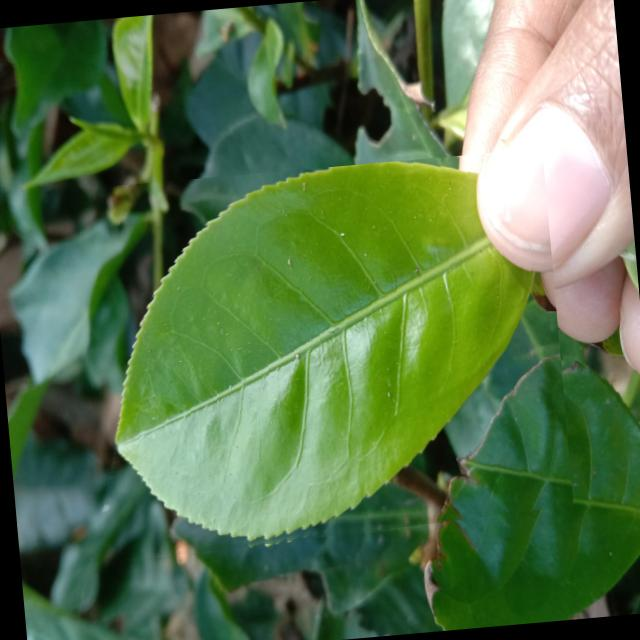Category B(2-4 days): (76, 148, 575, 562)
